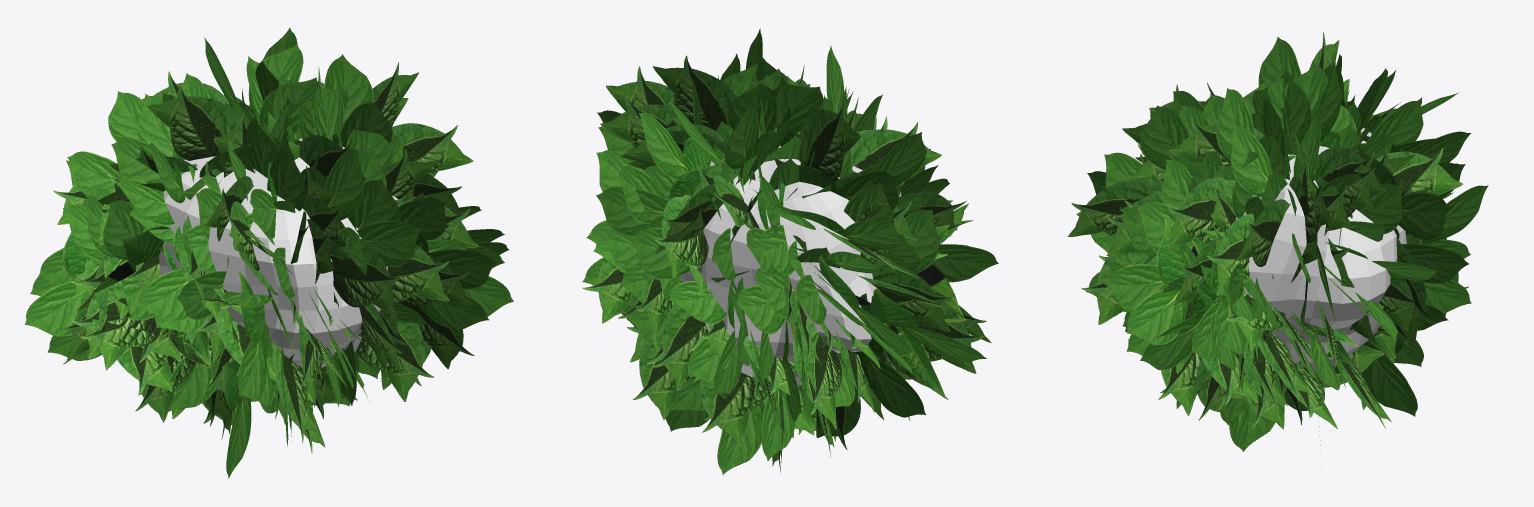
Rendered from куст 1,1fbx.fbx.
3 views of the same model, side by side, from view 1: azimuth 30°, elevation 25°; view 2: azimuth 150°, elevation 25°; view 3: azimuth 270°, elevation 25° (orthographic). The views are drawn at different scales.
Parts seen in each view (by area): view 1: Сфера|Плоскость|Dupli|, Сфера; view 2: Сфера|Плоскость|Dupli|, Сфера; view 3: Сфера|Плоскость|Dupli|, Сфера.
Boxes of the visible parts, left/top/right/bottom form: Сфера|Плоскость|Dupli|: left=25, top=28, right=513, bottom=478; Сфера: left=159, top=138, right=398, bottom=367; Сфера|Плоскость|Dupli|: left=582, top=28, right=998, bottom=474; Сфера: left=680, top=146, right=901, bottom=385; Сфера|Плоскость|Dupli|: left=1068, top=32, right=1488, bottom=464; Сфера: left=1215, top=128, right=1406, bottom=372.
Size of the model in its own units: 530 by 458 by 484.
